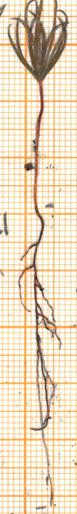flower: (0, 1, 76, 84)
root: (12, 207, 66, 514)
stem: (23, 83, 51, 205)
